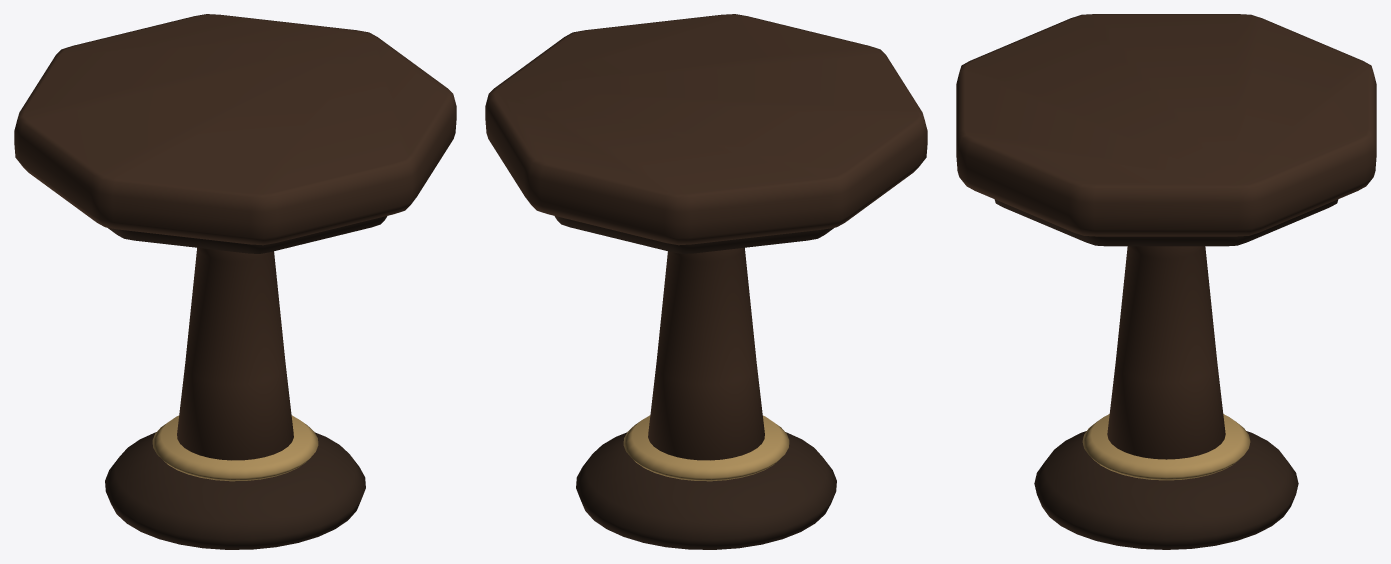
The model's file is table_side_oct.fbx.
3 renders of one model, left to right at view 1: azimuth 30°, elevation 25°; view 2: azimuth 150°, elevation 25°; view 3: azimuth 270°, elevation 25°, orthographic.
Visible parts, largest first — view 1: table_side_oct; view 2: table_side_oct; view 3: table_side_oct.
Boxes of the visible parts, x1=… form: table_side_oct: x1=14, y1=14, x2=456, y2=549; table_side_oct: x1=485, y1=14, x2=927, y2=549; table_side_oct: x1=956, y1=14, x2=1376, y2=549.
Bounding box in the file's own units: 0.48 × 0.5 × 0.48.
